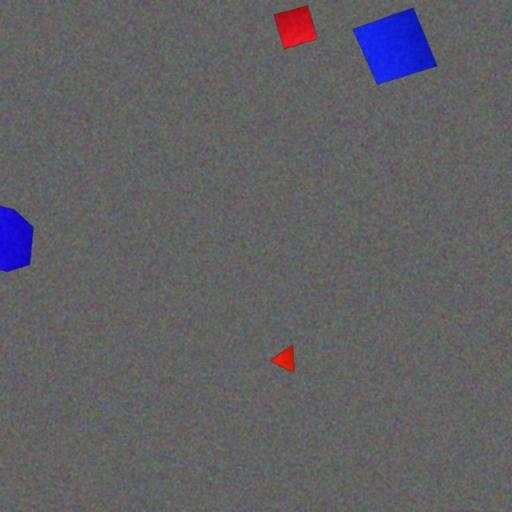BLUE_SQUARE: (352, 7, 438, 86)
RED_SQUARE: (272, 4, 318, 50)
